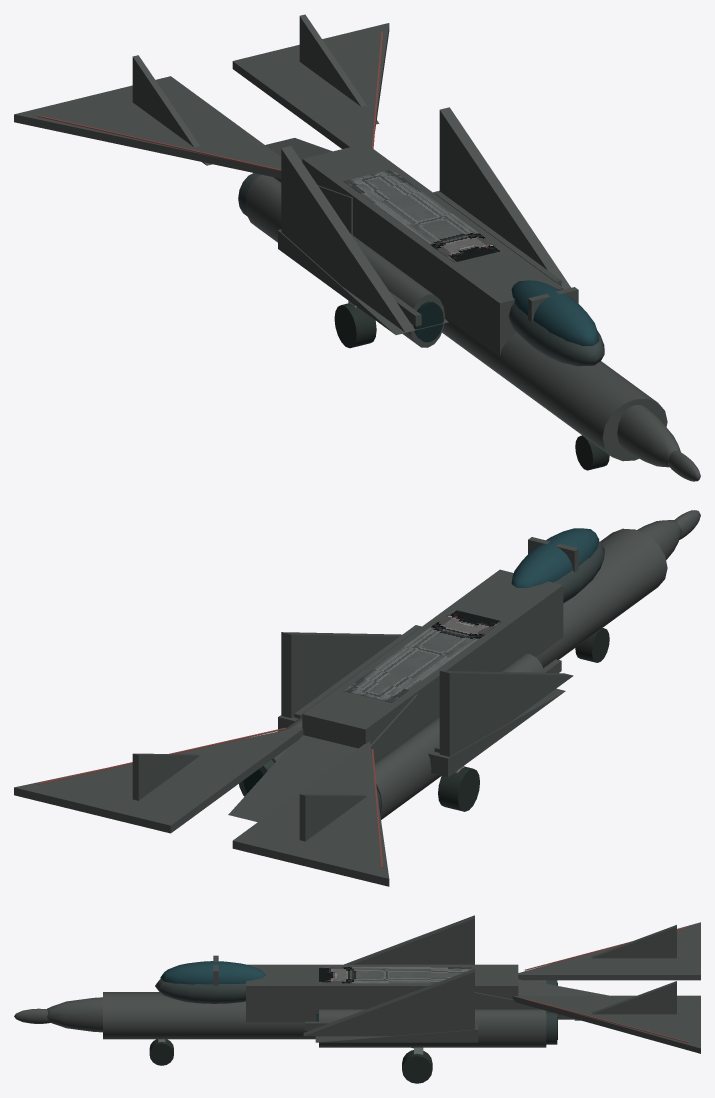
The model's file is CMU3DReduxCMUFighterGround.glb.
3 views of the same model, one above another, from view 1: azimuth 30°, elevation 25°; view 2: azimuth 150°, elevation 25°; view 3: azimuth 270°, elevation 25° (orthographic). The views are drawn at different scales.
Parts seen in each view (by area): view 1: forked tail plane (×2), folded outer wing (×2), upper fuselage spine, lower fuselage keel, source spine finish, tail fin (×2), engine nacelle, tandem cockpit glass, tapered nose, canopy fairing, fixed wing root, spine engine fairing (+4 smaller); view 2: forked tail plane (×2), upper fuselage spine, folded outer wing (×2), lower fuselage keel, spine engine fairing, source spine finish, engine nacelle, tail fin (×2), tandem cockpit glass, fixed wing root, landing tire, canopy fairing (+3 smaller); view 3: forked tail plane (×2), folded outer wing (×2), upper fuselage spine, lower fuselage keel, engine nacelle, tail fin (×2), source spine finish, tandem cockpit glass, canopy fairing, spine engine fairing, tapered nose, fixed wing root (+5 smaller).
Part boxes in pixels (bbox=[...]): forked tail plane (×2): bbox=[14, 23, 389, 178]; folded outer wing (×2): bbox=[281, 107, 570, 332]; upper fuselage spine: bbox=[302, 143, 563, 355]; lower fuselage keel: bbox=[442, 316, 667, 461]; source spine finish: bbox=[343, 169, 502, 262]; tail fin (×2): bbox=[132, 14, 379, 165]; engine nacelle: bbox=[245, 174, 445, 347]; tandem cockpit glass: bbox=[511, 280, 599, 345]; tapered nose: bbox=[617, 405, 680, 467]; canopy fairing: bbox=[508, 303, 604, 366]; fixed wing root: bbox=[278, 229, 448, 334]; spine engine fairing: bbox=[265, 138, 352, 234]; forked tail plane (×2): bbox=[14, 726, 389, 886]; upper fuselage spine: bbox=[302, 569, 563, 748]; folded outer wing (×2): bbox=[281, 632, 573, 756]; lower fuselage keel: bbox=[536, 528, 667, 667]; spine engine fairing: bbox=[228, 694, 417, 821]; source spine finish: bbox=[344, 609, 502, 702]; engine nacelle: bbox=[374, 654, 542, 819]; tail fin (×2): bbox=[132, 753, 378, 841]; tandem cockpit glass: bbox=[511, 528, 599, 587]; fixed wing root: bbox=[396, 688, 565, 777]; landing tire: bbox=[438, 766, 479, 811]; canopy fairing: bbox=[553, 541, 604, 603]; forked tail plane (×2): bbox=[512, 922, 700, 1053]; folded outer wing (×2): bbox=[303, 915, 474, 1036]; upper fuselage spine: bbox=[246, 964, 518, 1022]; lower fuselage keel: bbox=[103, 992, 315, 1039]; engine nacelle: bbox=[319, 1009, 546, 1047]; tail fin (×2): bbox=[574, 925, 676, 1020]; source spine finish: bbox=[319, 967, 471, 983]; tandem cockpit glass: bbox=[160, 961, 265, 984]; canopy fairing: bbox=[155, 979, 245, 1003]; spine engine fairing: bbox=[475, 979, 608, 1019]; tapered nose: bbox=[46, 997, 102, 1032]; fixed wing root: bbox=[315, 1023, 478, 1042].
Bounding box in the file's own units: 2.93 × 1.29 × 6.72.
12 materials, 1 textured.
